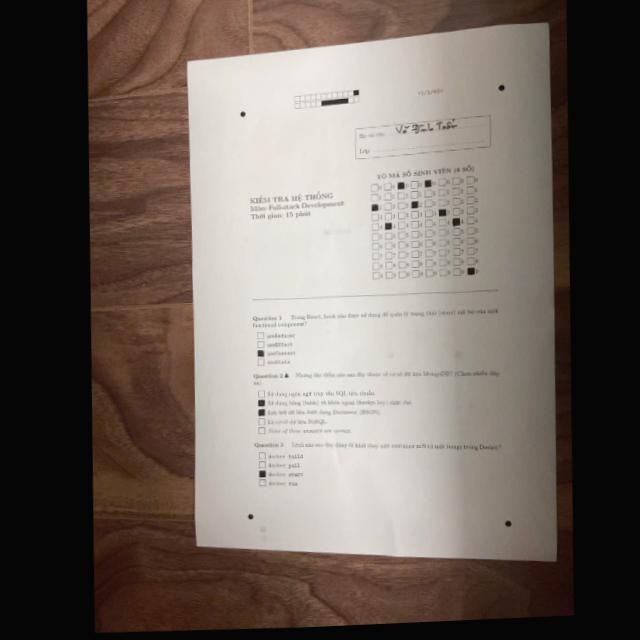Markers: (504, 520, 511, 527), (498, 82, 504, 90), (246, 512, 252, 520), (239, 110, 244, 116)
